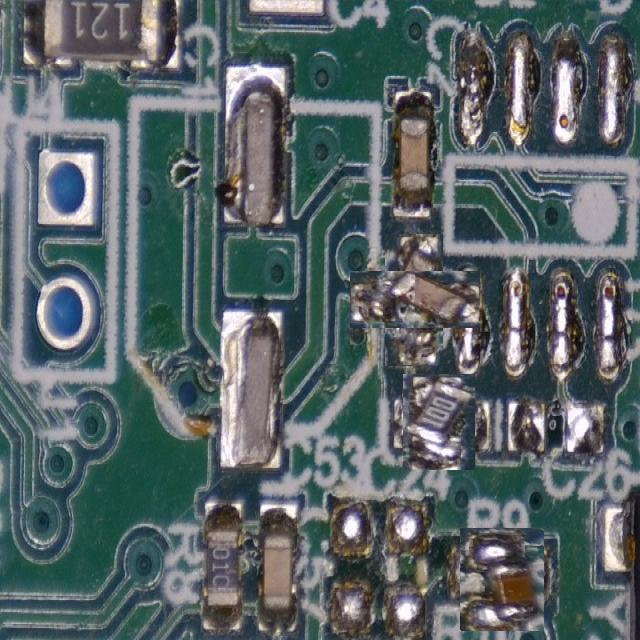Incorrect_installation: (461, 529, 543, 630), (349, 272, 480, 328), (403, 375, 474, 470)
